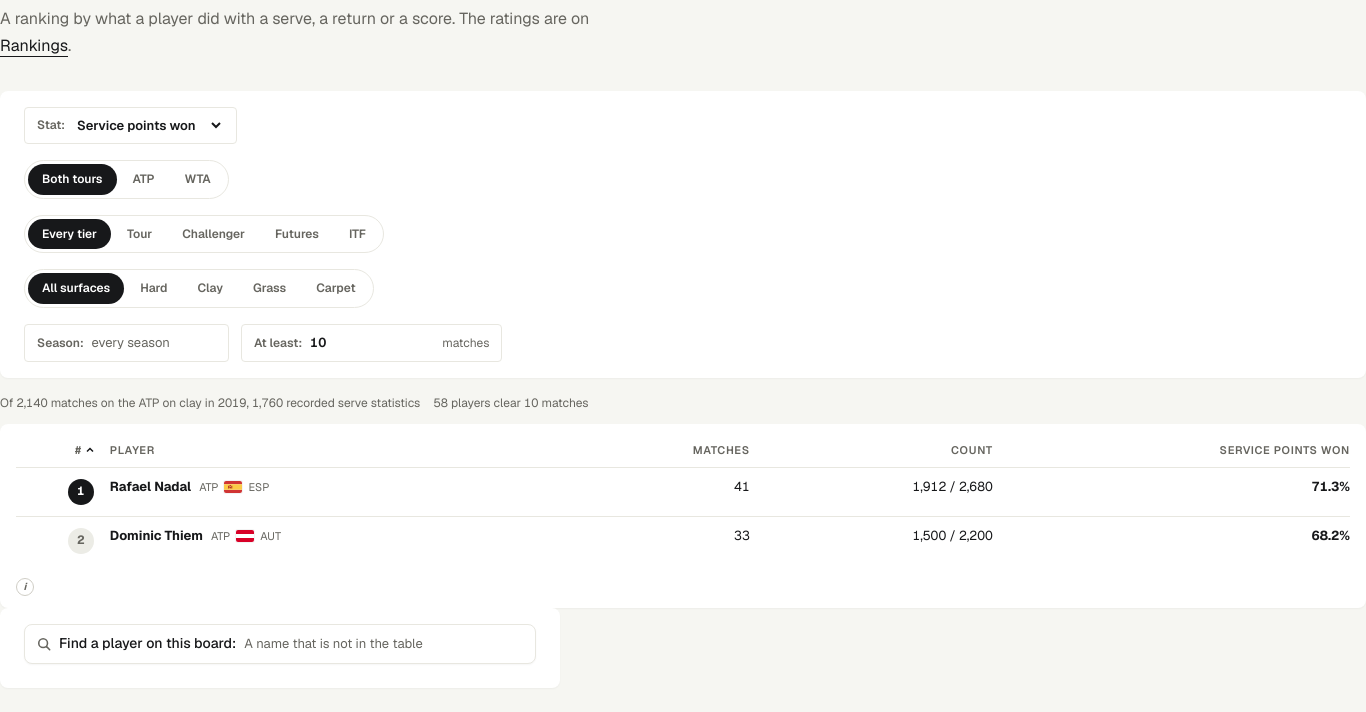
Test case: Leaders › says why a sought name is absent: below the floor
This screenshot has width=1366, height=712.
(page scrolled)
Expected: the text "71.3%" is shown, [1311,478,1350,495]
Type "nobody" into the dropdown labelled "Find a player on this board" at coordinates (384, 644), box [244,625,523,663]
(page scrolled)
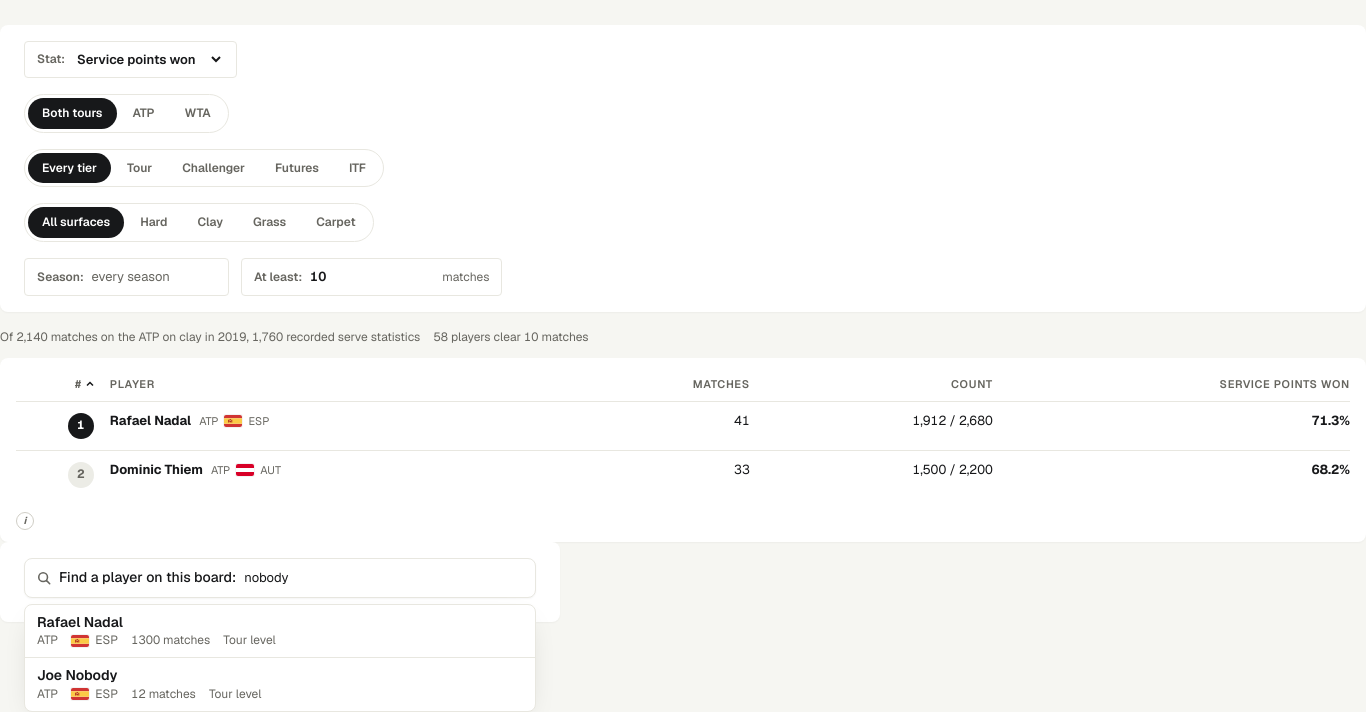
Press the mouse on the option "Joe Nobody ATP ESP 12 matches Tour level" at coordinates (149, 684), box [37,666,261,702]
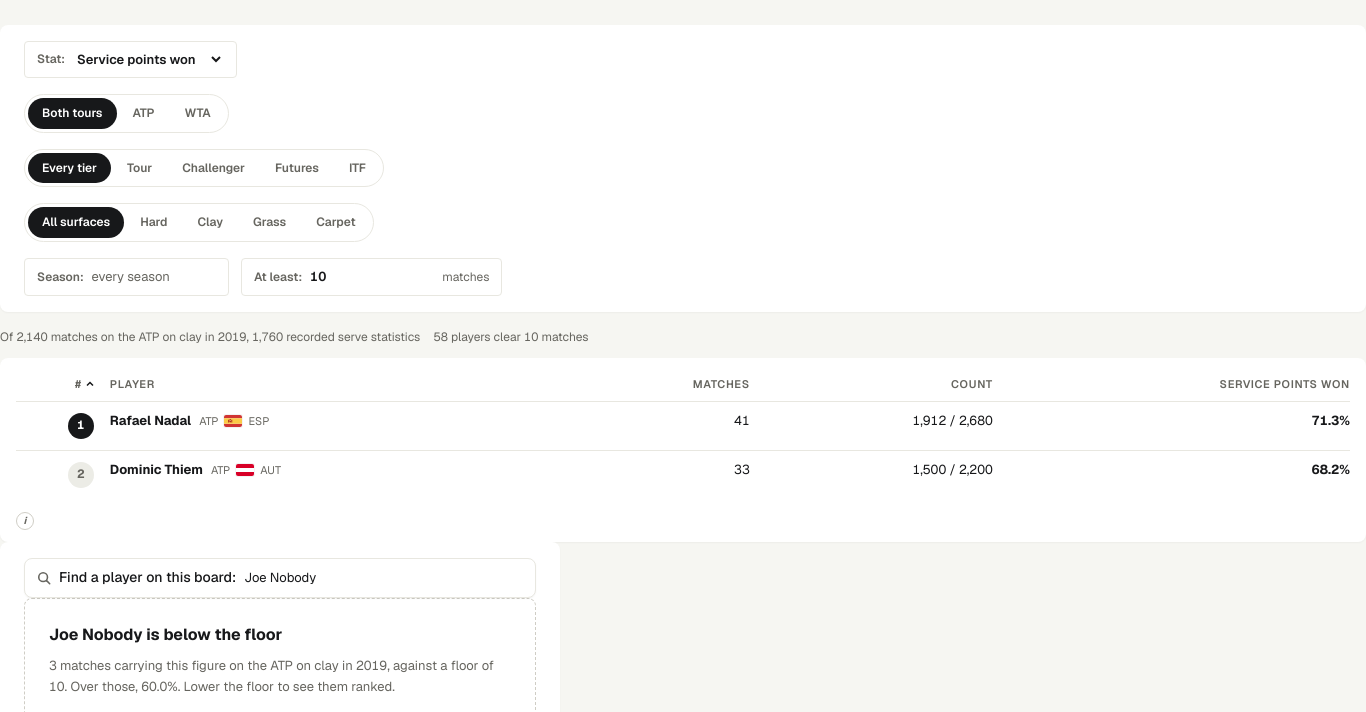
Result: the heading "Joe Nobody is below the floor" is shown at [49,624,282,645]
